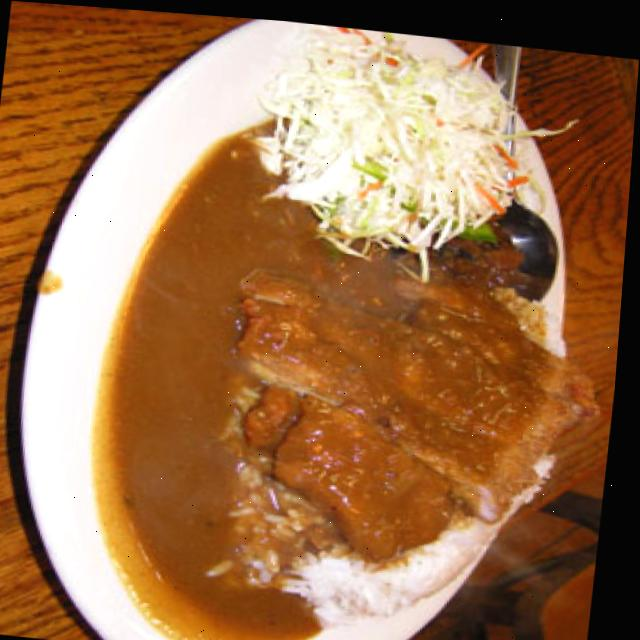猪肉菜式: (7, 3, 640, 640)
